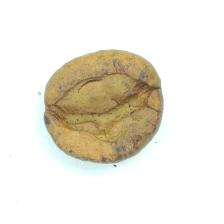NG: (53, 60, 148, 152)
